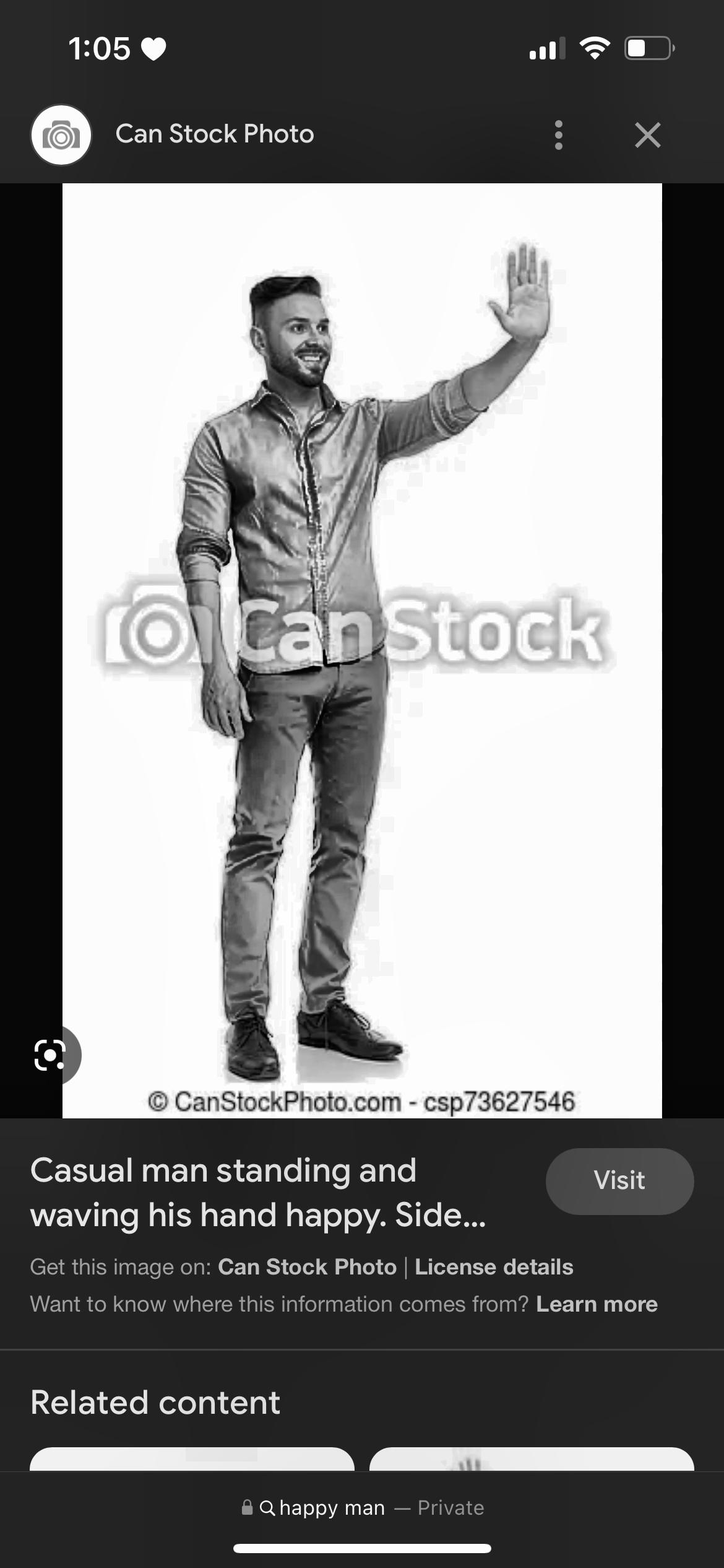happy: (276, 295, 332, 403)
